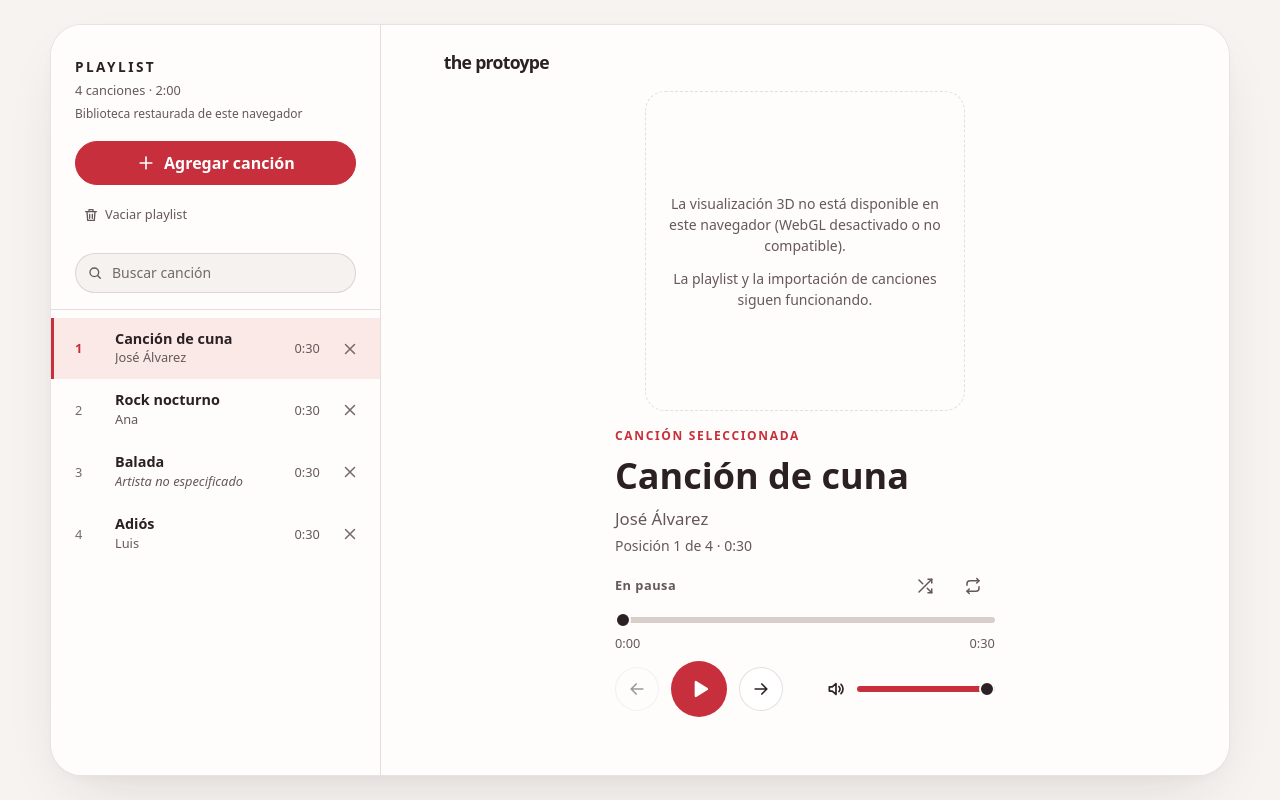
Scenario: búsqueda › filtra por título y artista ignorando mayúsculas y acentos, con posiciones reales
This screenshot has width=1280, height=800.
Type "CANCION" into the search field labelled "Buscar canción".
click(215, 273); type("CANCION")  # box [75,253,356,293]
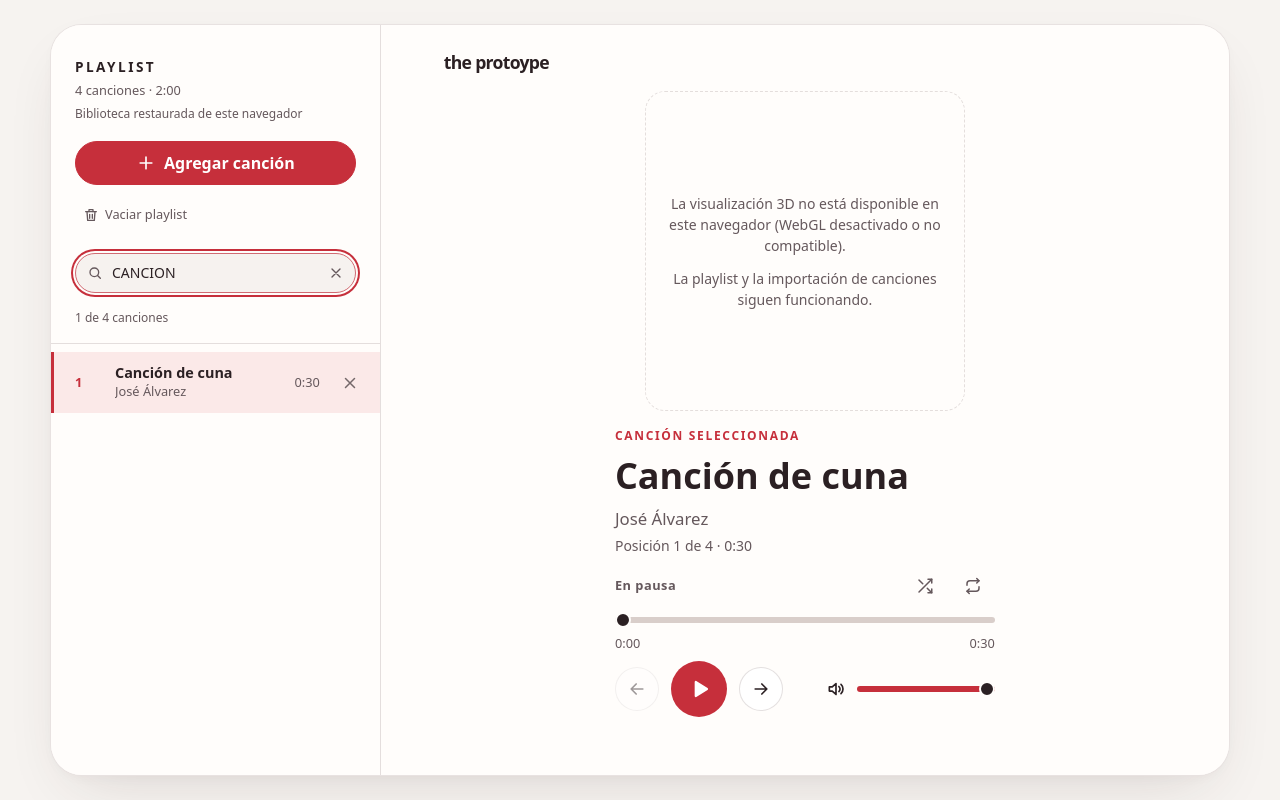
Replace the text in the search field named "Buscar canción" with "alvarez" at (215, 273), box [75,253,356,293]
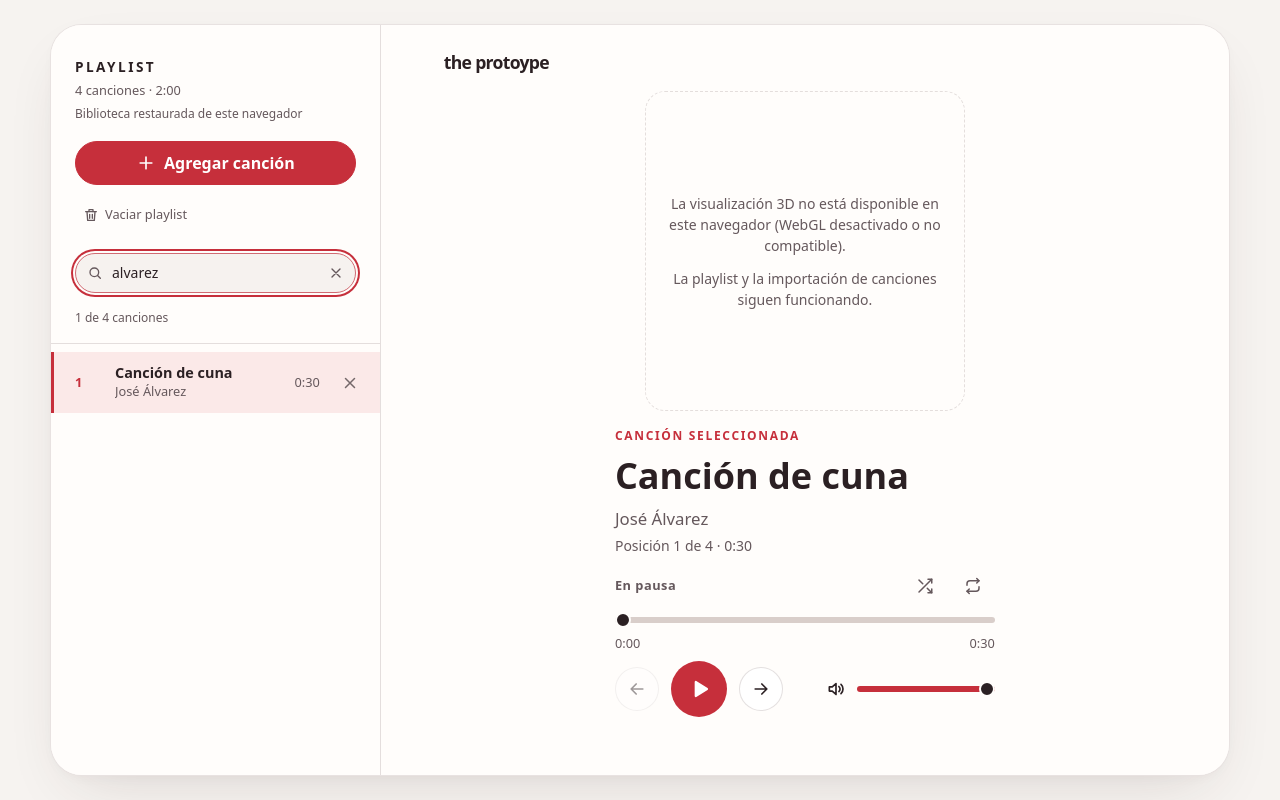
Replace the text in the search field named "Buscar canción" with "adiós" at (215, 273), box [75,253,356,293]
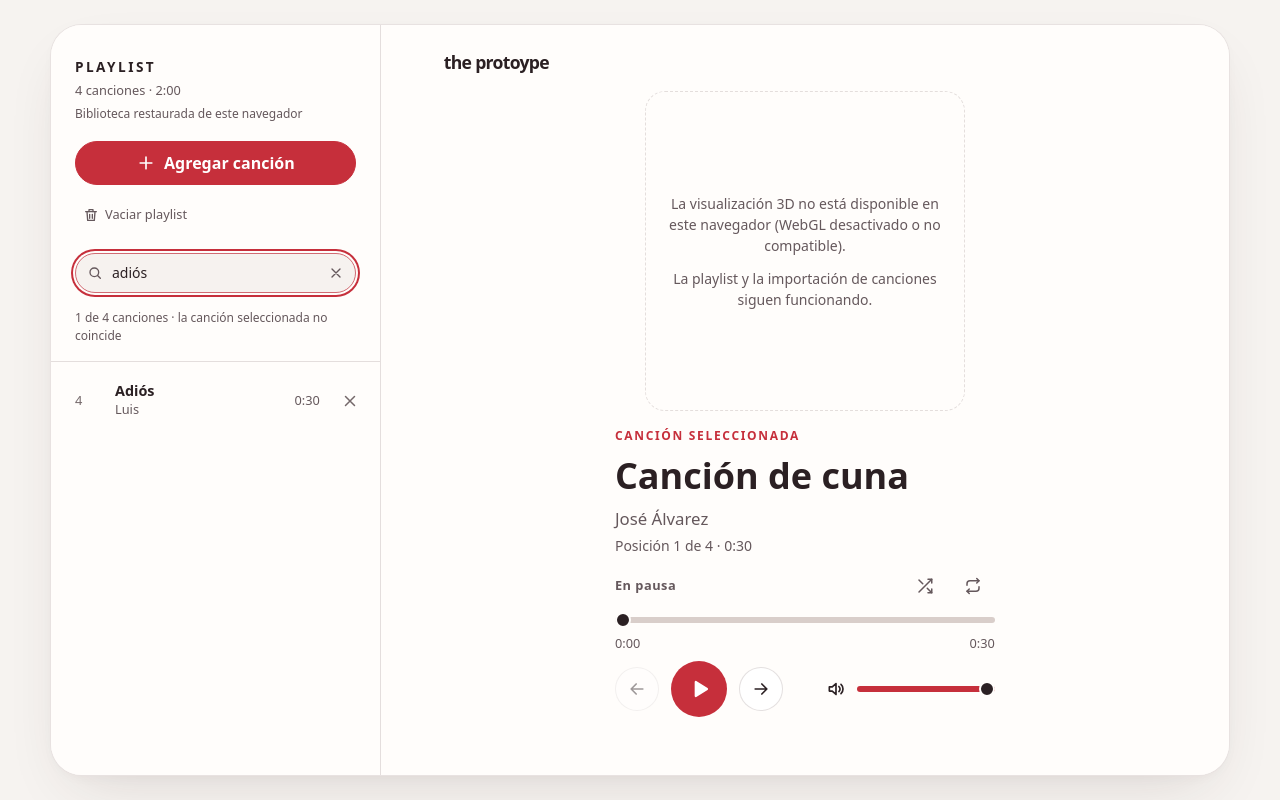
Expected: the button with aria-label "4. Adiós" is shown, [51,370,328,432]
Result: the message with test id "search-status" shows "1 de 4 canciones" at [75,309,328,344]
